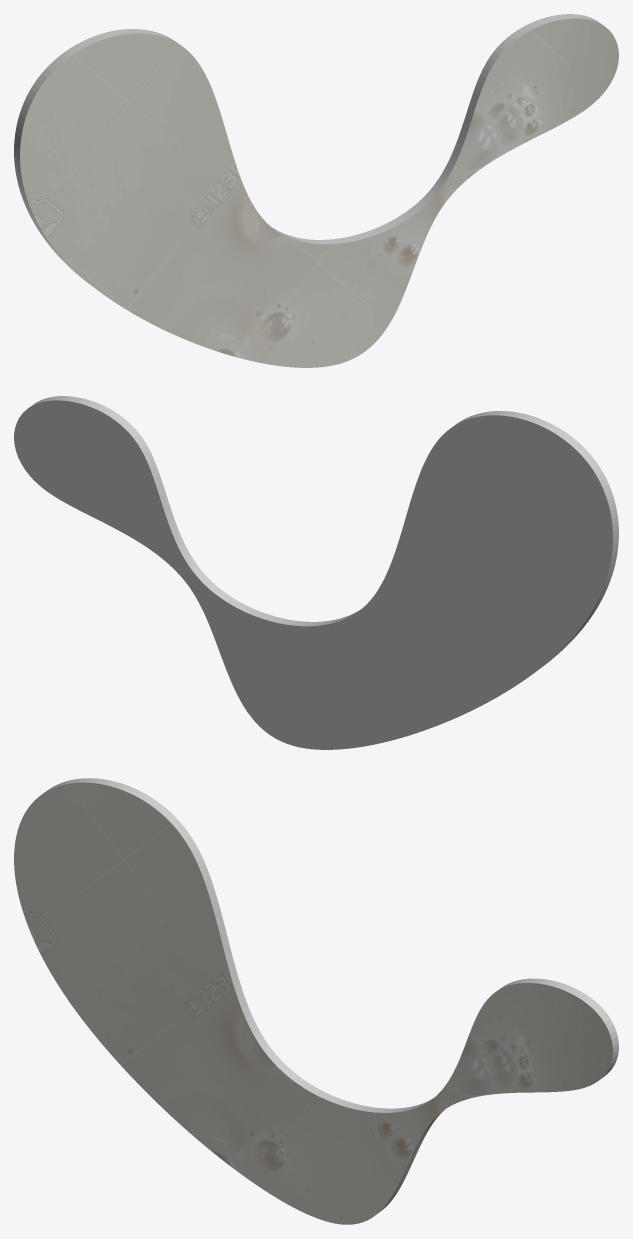
The model's file is mancha.dae.
3 renders of one model, top to bottom at view 1: azimuth 30°, elevation 25°; view 2: azimuth 150°, elevation 25°; view 3: azimuth 330°, elevation 25°, orthographic.
Visible parts, largest first — view 1: node; view 2: node; view 3: node.
Boxes of the visible parts, x1,y1,x2,y2 form: node: (14, 14, 618, 367); node: (14, 396, 618, 749); node: (14, 778, 618, 1224).
Bounding box in the file's own units: 116 × 70.67 × 2.
